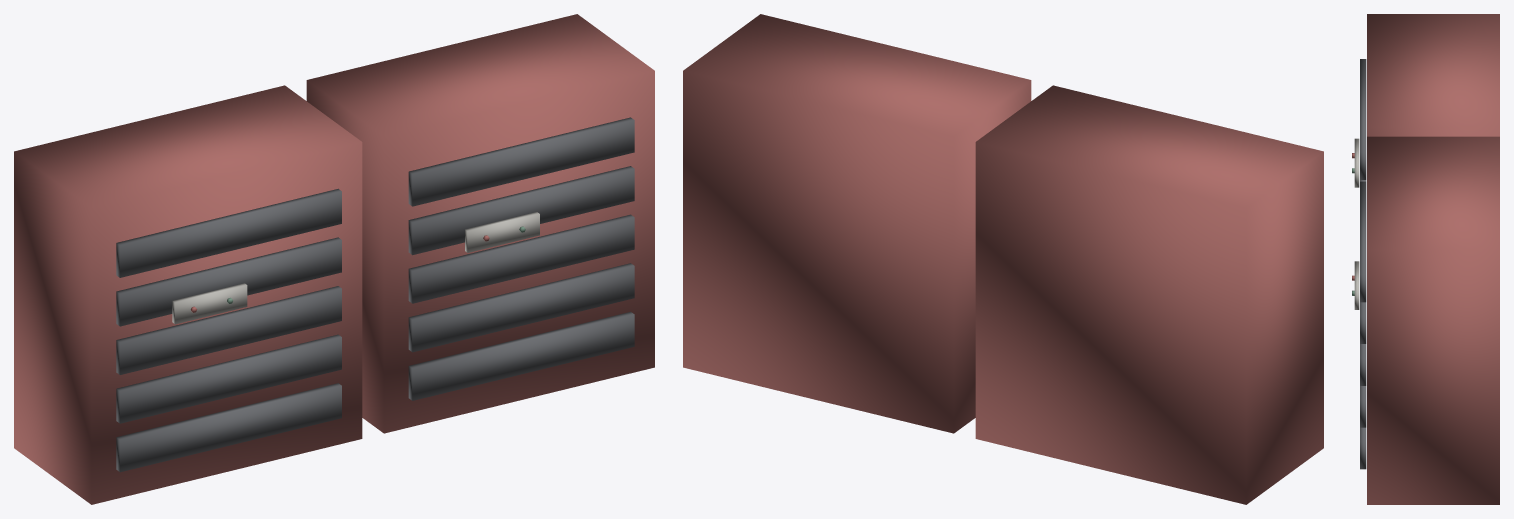
Rendered from tool_cabinet__cluster.glb.
The picture shows the model from 3 angles, left to right: view 1: azimuth 30°, elevation 25°; view 2: azimuth 150°, elevation 25°; view 3: azimuth 270°, elevation 25°; orthographic projection. The views are drawn at different scales.
Visible parts, largest first — view 1: world; view 2: world; view 3: world.
Boxes of the visible parts, bbox=[...] form: world: bbox=[14, 14, 654, 504]; world: bbox=[683, 14, 1323, 504]; world: bbox=[1352, 14, 1499, 504].
Bounding box in the file's own units: 2.18 × 1.1 × 0.5785.
